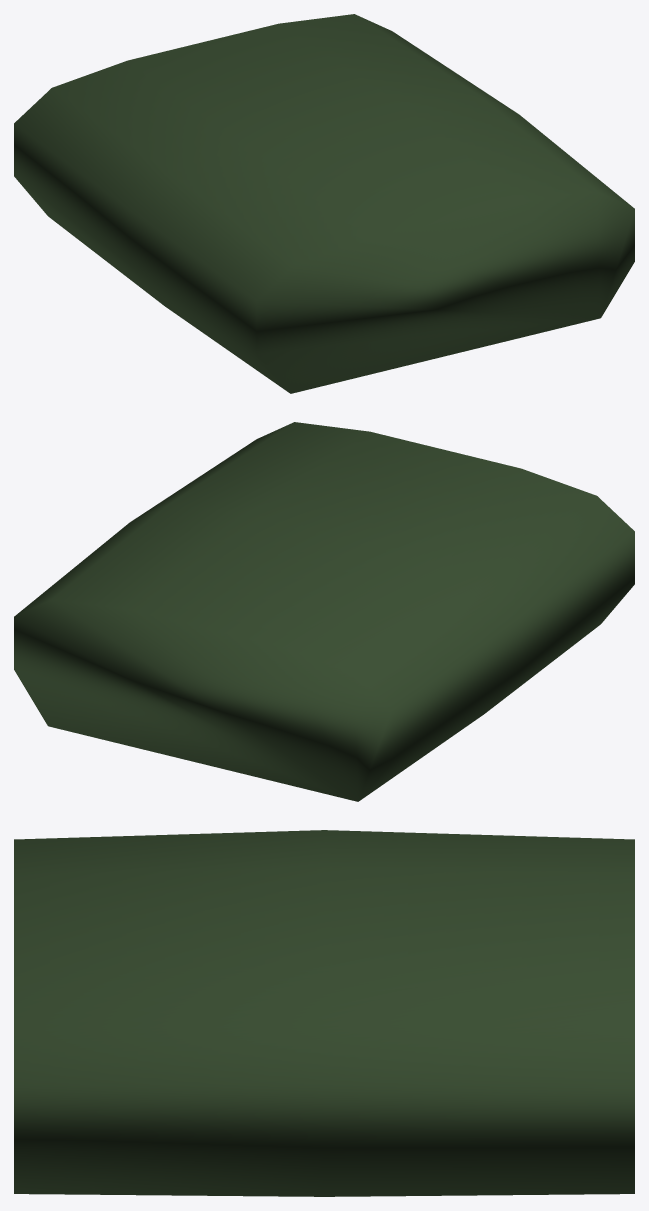
Rendered from center_hedge.fbx.
3 views of the same model, one above another, from view 1: azimuth 30°, elevation 25°; view 2: azimuth 150°, elevation 25°; view 3: azimuth 270°, elevation 25° (orthographic). The views are drawn at different scales.
Parts seen in each view (by area): view 1: center_hedge; view 2: center_hedge; view 3: center_hedge.
Part boxes in pixels (x1=…): center_hedge: x1=14, y1=14, x2=634, y2=393; center_hedge: x1=14, y1=422, x2=634, y2=801; center_hedge: x1=14, y1=830, x2=634, y2=1196.
Size of the model in its own units: 1.85 by 0.645 by 2.
